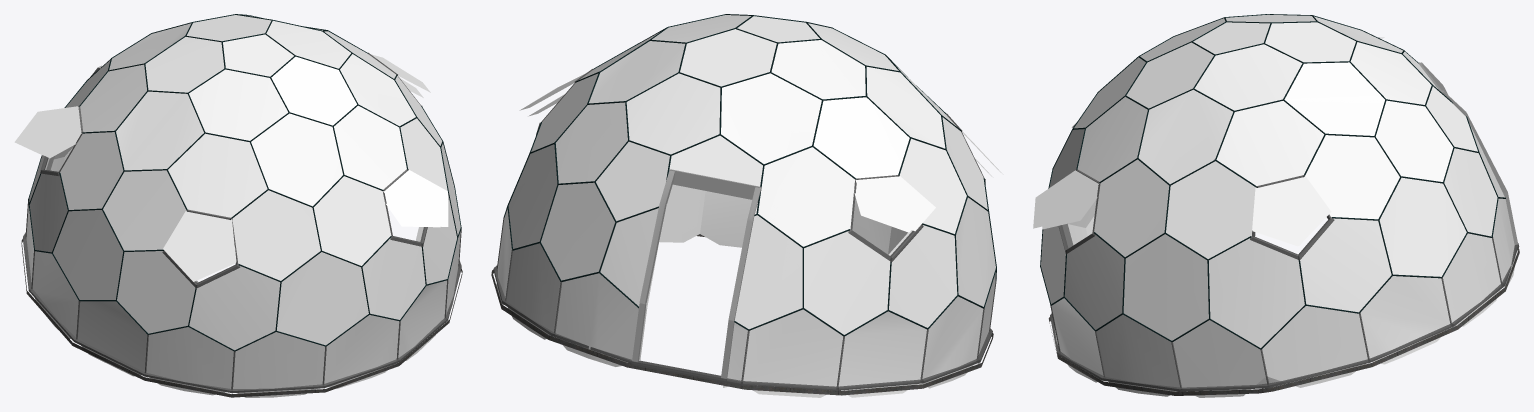
Rendered from z2AGUAS_TEJA_13.fbx.
3 views of the same model, side by side, from view 1: azimuth 30°, elevation 25°; view 2: azimuth 150°, elevation 25°; view 3: azimuth 270°, elevation 25° (orthographic). The views are drawn at different scales.
Parts seen in each view (by area): view 1: node_id13, node_id28, node_id20, node_id9, node_id16; view 2: node_id13, node_id28, node_id16, node_id20, node_id24, node_id9; view 3: node_id13, node_id28, node_id20, node_id9, node_id16, node_id24.
Boxes of the visible parts, left/top/right/bottom form: node_id13: left=14, top=15, right=460, bottom=397; node_id28: left=28, top=14, right=461, bottom=351; node_id20: left=23, top=52, right=461, bottom=393; node_id9: left=21, top=239, right=462, bottom=397; node_id16: left=43, top=78, right=440, bottom=282; node_id13: left=496, top=15, right=1003, bottom=397; node_id28: left=504, top=14, right=996, bottom=336; node_id16: left=528, top=94, right=993, bottom=383; node_id20: left=493, top=69, right=996, bottom=390; node_id24: left=632, top=169, right=761, bottom=378; node_id9: left=491, top=234, right=993, bottom=395; node_id13: left=1033, top=14, right=1515, bottom=397; node_id28: left=1040, top=14, right=1505, bottom=349; node_id20: left=1050, top=169, right=1519, bottom=392; node_id9: left=1048, top=248, right=1519, bottom=395; node_id16: left=1042, top=186, right=1297, bottom=248; node_id24: left=1418, top=62, right=1517, bottom=244.
Bounding box in the file's own units: 0.5082 × 0.3532 × 0.5138.
Materials: 6 (1 with a texture image).
